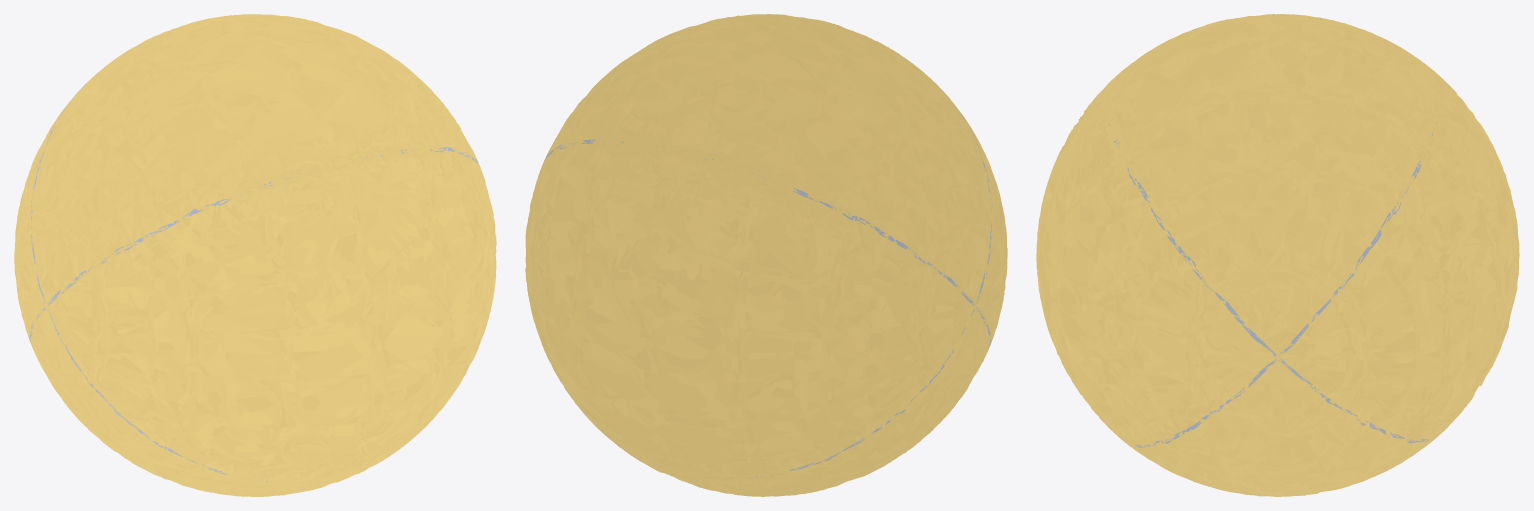
File: dg-south-C.glb
3 renders of one model, left to right at view 1: azimuth 30°, elevation 25°; view 2: azimuth 150°, elevation 25°; view 3: azimuth 270°, elevation 25°, orthographic.
Parts seen in each view (by area): view 1: anodes, structure; view 2: anodes, structure; view 3: anodes, structure.
Part boxes in pixels (left/top/right/bottom): anodes: left=14, top=14, right=496, bottom=496; structure: left=29, top=84, right=479, bottom=481; anodes: left=525, top=14, right=1007, bottom=496; structure: left=544, top=94, right=992, bottom=478; anodes: left=1036, top=14, right=1519, bottom=496; structure: left=1108, top=81, right=1438, bottom=447.
Size of the model in its own units: 2 by 2 by 2.
